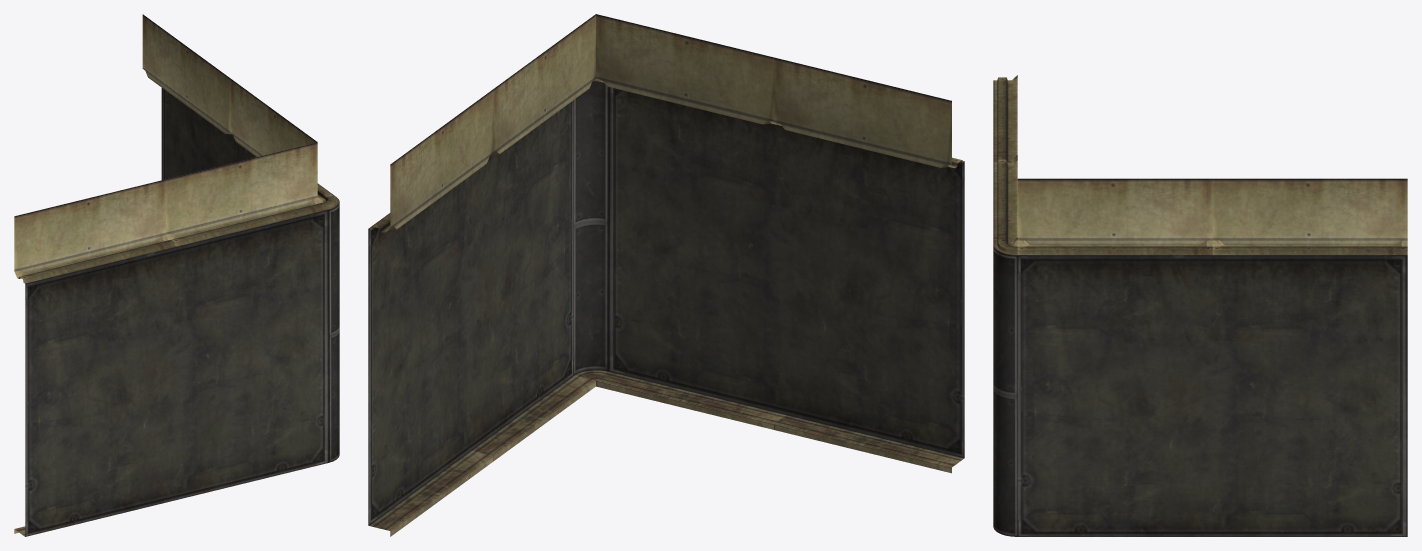
The model's file is pplant_ground_concave_blank.dae.
3 views of the same model, side by side, from view 1: azimuth 30°, elevation 25°; view 2: azimuth 150°, elevation 25°; view 3: azimuth 270°, elevation 25° (orthographic). The views are drawn at different scales.
Visible parts, largest first — view 1: ground_concave_blank; view 2: ground_concave_blank; view 3: ground_concave_blank.
Boxes of the visible parts, x1,y1,x2,y2 form: ground_concave_blank: (14, 14, 339, 536); ground_concave_blank: (368, 14, 964, 536); ground_concave_blank: (993, 75, 1407, 536).
Bounding box in the file's own units: 4.25 × 4 × 4.25.
